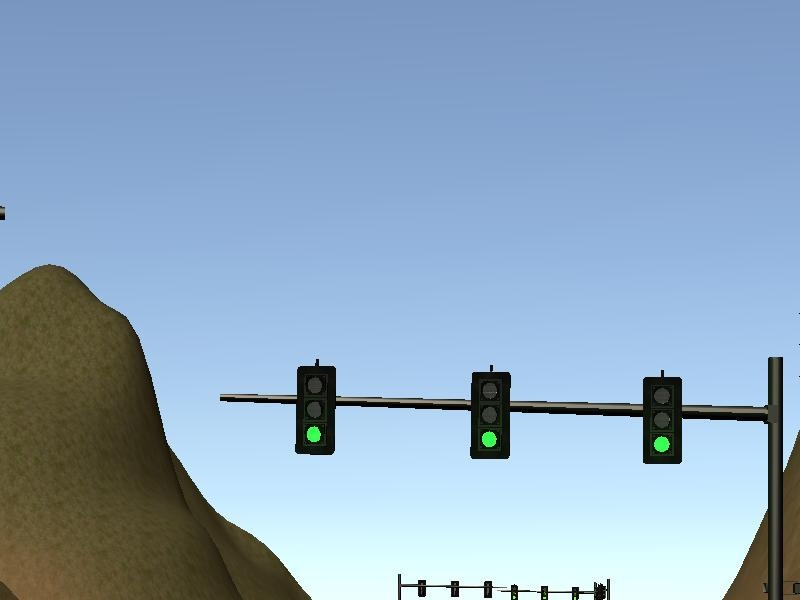GREEN: (639, 375, 687, 469), (468, 370, 512, 463), (294, 364, 337, 455)
